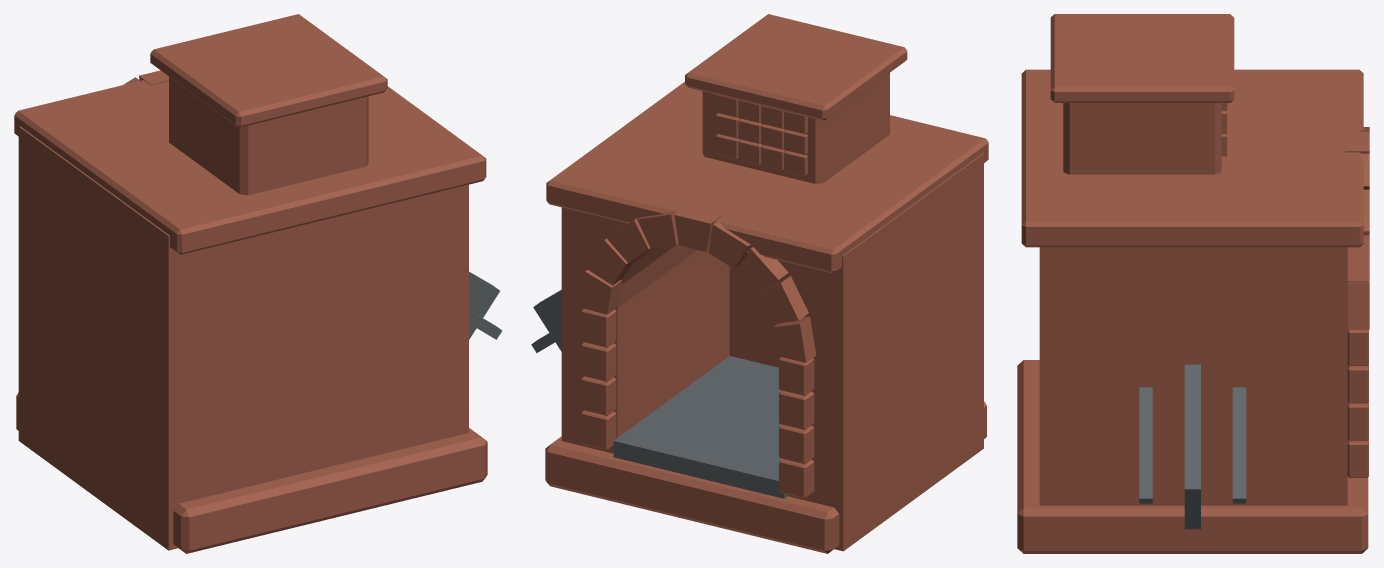
File: mint-furnace.glb
3 views of the same model, side by side, from view 1: azimuth 30°, elevation 25°; view 2: azimuth 150°, elevation 25°; view 3: azimuth 270°, elevation 25° (orthographic). The views are drawn at different scales.
Parts seen in each view (by area): view 1: Board.001, Board.003, Board.013, Board, Board.015, Board.002, Board.014, Board.030; view 2: Board.001, Board.013, Board.002, Board.004, Board.015, Board, Board.014, Board.003, brick.020, brick.019, brick.016, brick (+16 smaller); view 3: Board.002, Board.013, Board, Board.015, Board.014, Board.030, Board.028, Board.029, brick.012, brick.013, Board.009, Board.010 (+3 smaller).
Boxes of the visible parts, x1=… form: Board.001: x1=18, y1=126, x2=227, y2=550; Board.003: x1=227, y1=199, x2=410, y2=491; Board.013: x1=14, y1=80, x2=486, y2=254; Board: x1=16, y1=392, x2=487, y2=553; Board.015: x1=150, y1=14, x2=387, y2=127; Board.002: x1=410, y1=184, x2=468, y2=446; Board.014: x1=169, y1=77, x2=368, y2=195; Board.030: x1=469, y1=271, x2=499, y2=339; Board.001: x1=788, y1=153, x2=983, y2=551; Board.013: x1=546, y1=82, x2=988, y2=273; Board.002: x1=561, y1=207, x2=729, y2=453; Board.004: x1=613, y1=356, x2=787, y2=498; Board.015: x1=685, y1=14, x2=907, y2=120; Board: x1=545, y1=402, x2=986, y2=553; Board.014: x1=702, y1=73, x2=889, y2=183; Board.003: x1=729, y1=265, x2=780, y2=367; brick.020: x1=773, y1=316, x2=816, y2=362; brick.019: x1=758, y1=276, x2=808, y2=324; brick.016: x1=674, y1=206, x2=721, y2=251; brick: x1=617, y1=221, x2=696, y2=308; Board.002: x1=1039, y1=247, x2=1347, y2=505; Board.013: x1=1021, y1=69, x2=1363, y2=247; Board: x1=1017, y1=360, x2=1368, y2=553; Board.015: x1=1050, y1=14, x2=1234, y2=102; Board.014: x1=1063, y1=103, x2=1221, y2=174; Board.030: x1=1184, y1=364, x2=1200, y2=529; Board.028: x1=1232, y1=387, x2=1246, y2=503; Board.029: x1=1139, y1=387, x2=1152, y2=503; brick.012: x1=1347, y1=281, x2=1369, y2=329; brick.013: x1=1347, y1=235, x2=1369, y2=280; Board.009: x1=1347, y1=439, x2=1368, y2=477; Board.010: x1=1347, y1=402, x2=1368, y2=440.
Size of the model in its own units: 2.65 by 2.61 by 1.96.
